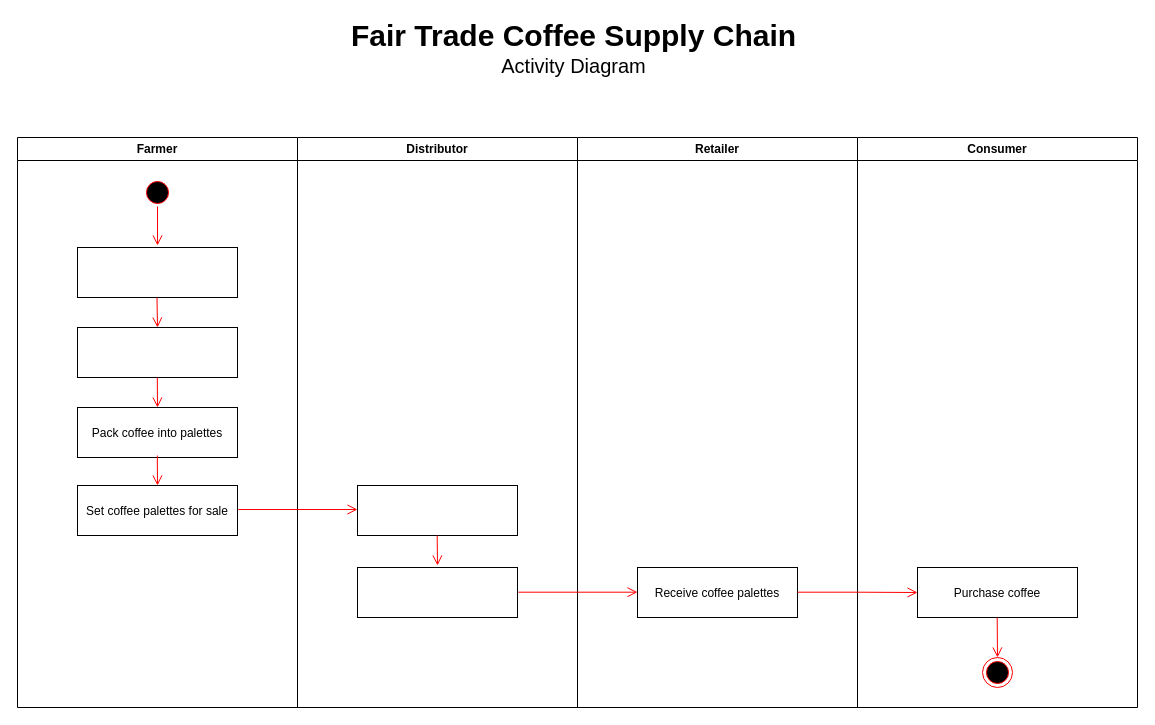
Some shapes in this 1155 by 725 pixel diagram are drawn without their labels. Each missing label, with the centre of its shape:
"Buy coffee palettes" goes at point (437, 510).
"Harvest coffee beans" goes at point (157, 272).
"Process coffee beans" goes at point (157, 352).
"Ship coffee palettes" goes at point (437, 592).
